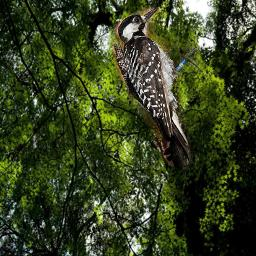Woodpecker: (106, 1, 215, 170)
